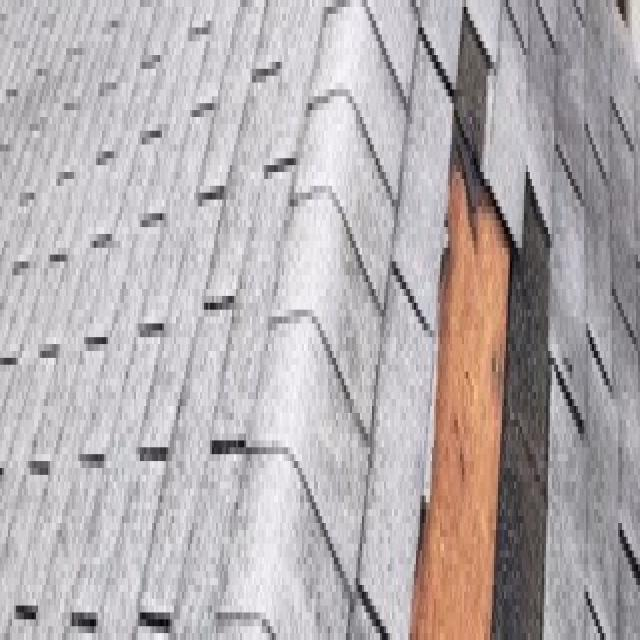damage: (406, 5, 557, 640)
